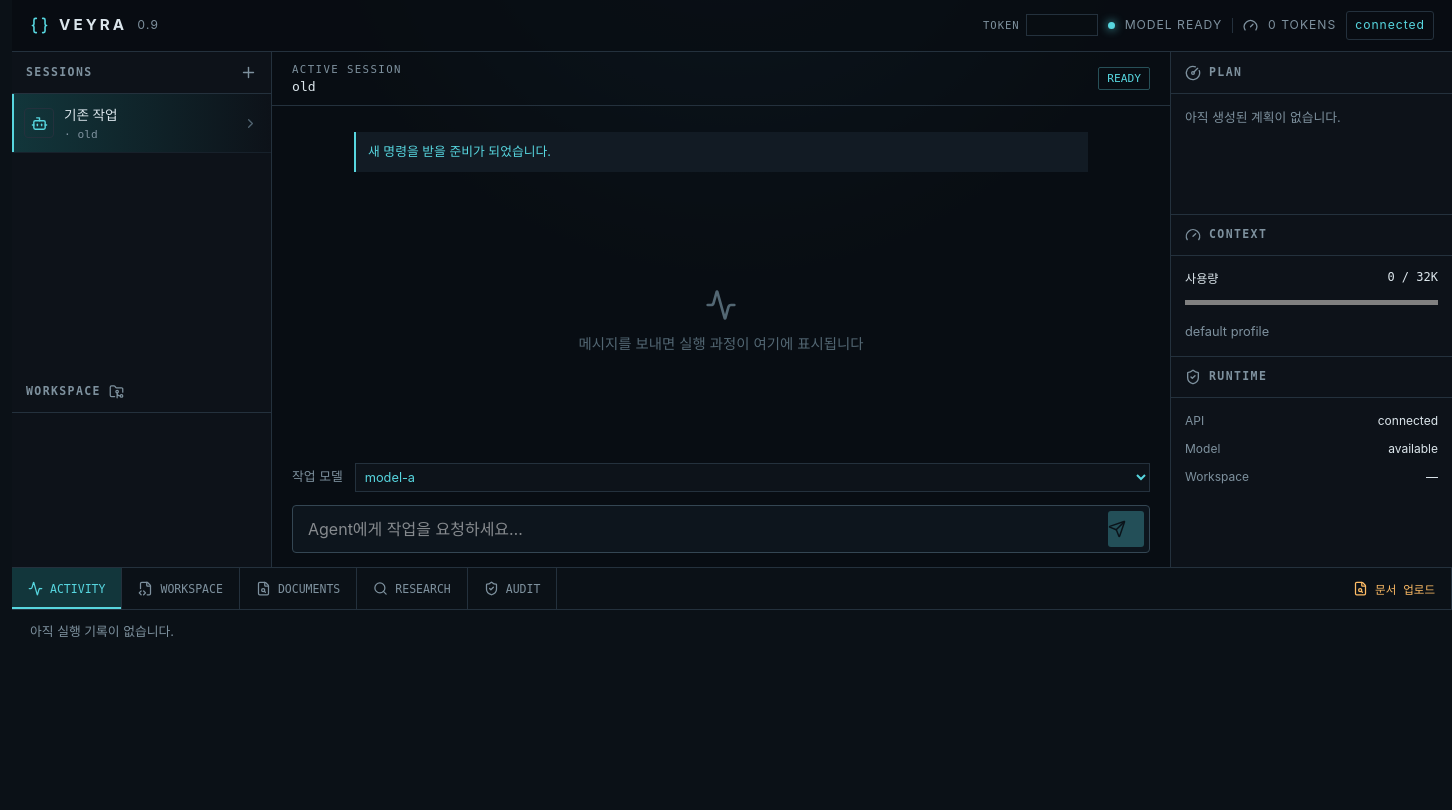
Test: shows readable document entries and opens metadata on selection
Click the tab "documents" at (299,588), box [240, 568, 357, 609]
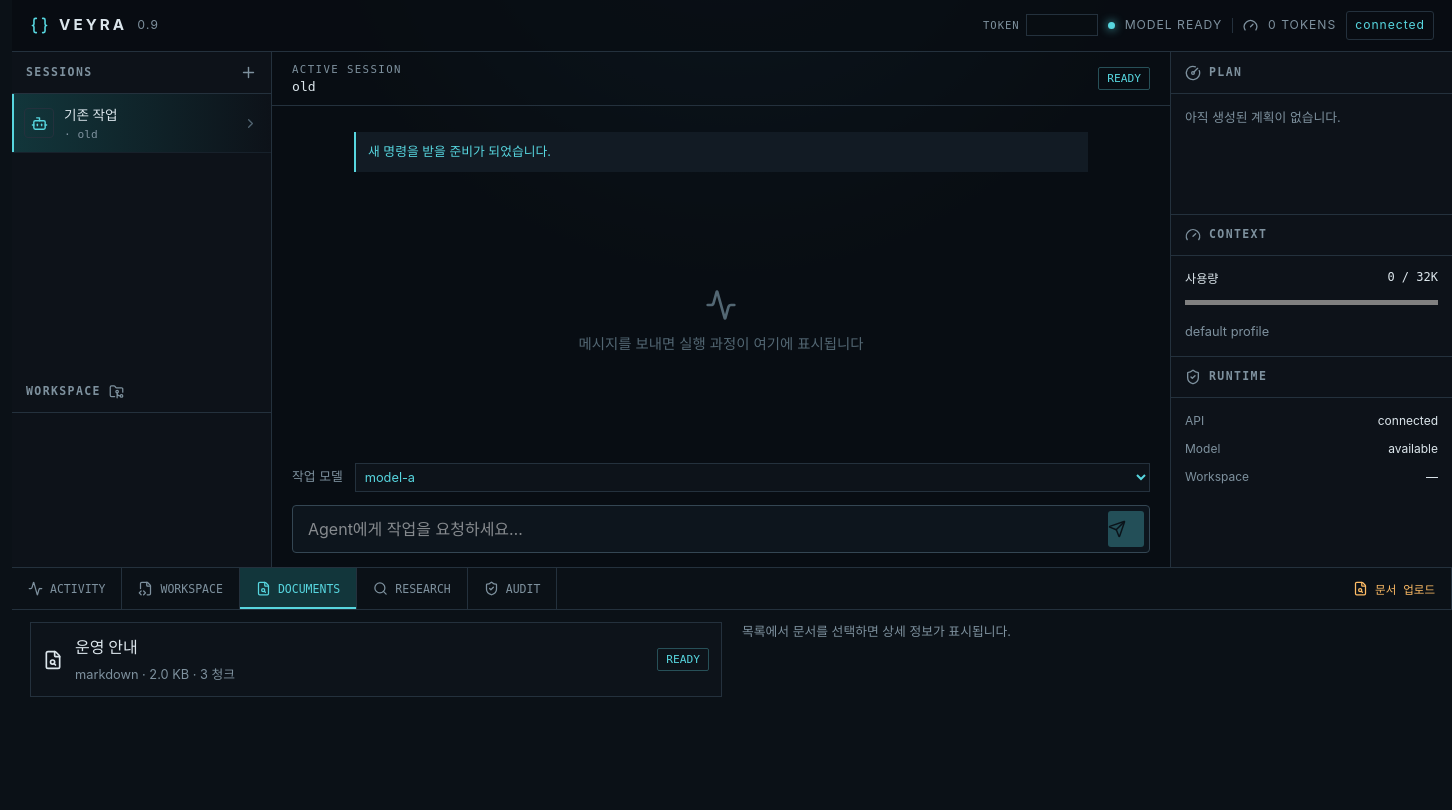
Click the button "운영 안내 markdown · 2.0 KB · 3 청크 ready" at (106,647), box [30, 622, 722, 697]
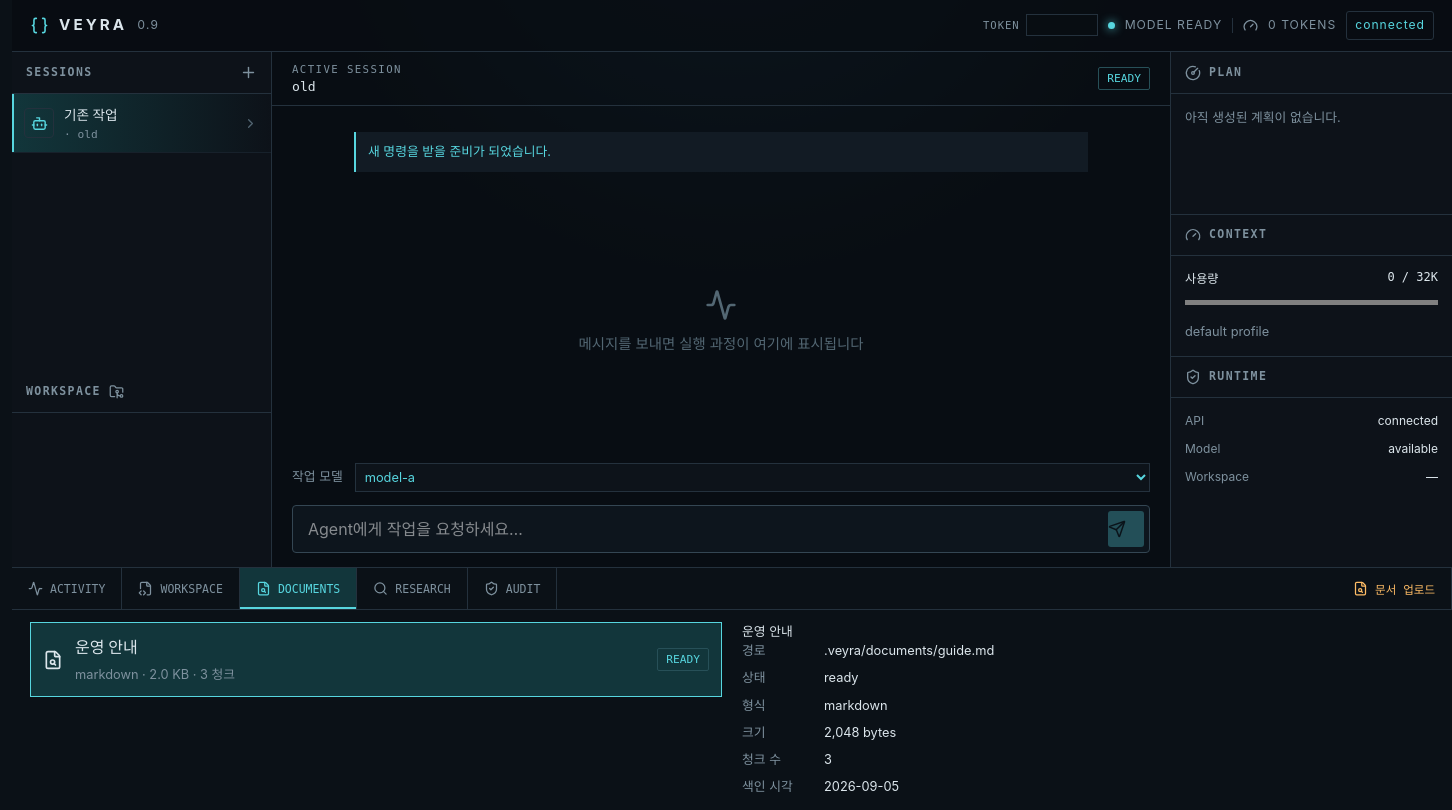
Result: the element named "문서 상세" shows ".veyra/documents/guide.md" at [824, 643, 994, 658]
Result: the element named "문서 상세" shows "2,048 bytes" at [824, 725, 896, 740]
